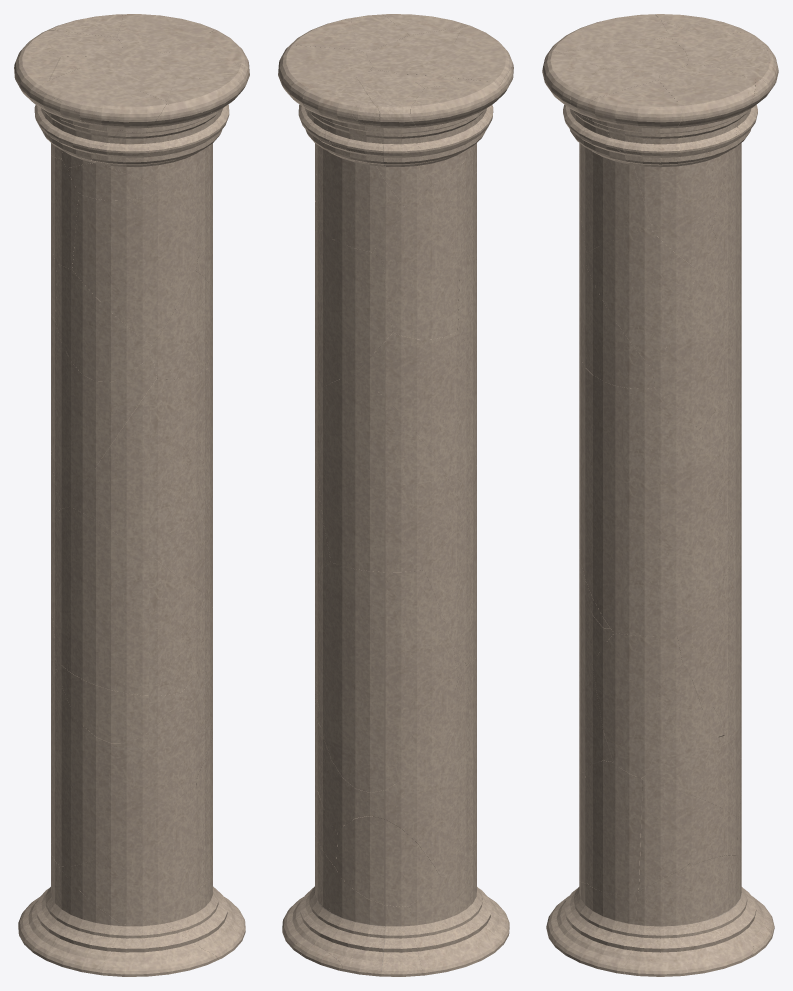
The model's file is columnFractured 1.fbx.
3 views of the same model, side by side, from view 1: azimuth 30°, elevation 25°; view 2: azimuth 150°, elevation 25°; view 3: azimuth 270°, elevation 25° (orthographic).
Parts seen in each view (by area): view 1: Cylinder_cell.025, Cylinder_cell.074, Cylinder_cell.073, Cylinder_cell.009, Cylinder_cell.050, Cylinder_cell.003, Cylinder_cell.049, Cylinder_cell.055, Cylinder_cell.051, Cylinder_cell.043, Cylinder_cell.028, Cylinder_cell.013 (+20 smaller); view 2: Cylinder_cell.036, Cylinder_cell.072, Cylinder_cell.073, Cylinder_cell.003, Cylinder_cell.008, Cylinder_cell.049, Cylinder_cell.016, Cylinder_cell.007, Cylinder_cell.065, Cylinder_cell.046, Cylinder_cell.048, Cylinder_cell.025 (+17 smaller); view 3: Cylinder_cell.074, Cylinder_cell.012, Cylinder_cell.008, Cylinder_cell.073, Cylinder_cell.039, Cylinder_cell.029, Cylinder_cell.050, Cylinder_cell.036, Cylinder_cell.054, Cylinder_cell.019, Cylinder_cell.023, Cylinder_cell.001 (+21 smaller).
Boxes of the visible parts, x1,y1,x2,y2 form: Cylinder_cell.025: (51, 506, 212, 695); Cylinder_cell.074: (70, 360, 212, 607); Cylinder_cell.073: (51, 661, 212, 866); Cylinder_cell.009: (72, 192, 197, 345); Cylinder_cell.050: (59, 779, 198, 924); Cylinder_cell.003: (51, 297, 156, 509); Cylinder_cell.049: (18, 852, 122, 974); Cylinder_cell.055: (55, 263, 152, 381); Cylinder_cell.051: (36, 68, 166, 133); Cylinder_cell.043: (58, 666, 179, 742); Cylinder_cell.028: (152, 271, 212, 379); Cylinder_cell.013: (98, 918, 217, 976); Cylinder_cell.036: (315, 562, 458, 792); Cylinder_cell.072: (315, 374, 464, 572); Cylinder_cell.073: (315, 678, 476, 876); Cylinder_cell.003: (339, 331, 476, 511); Cylinder_cell.008: (315, 225, 392, 396); Cylinder_cell.049: (409, 870, 509, 975); Cylinder_cell.016: (306, 873, 422, 976); Cylinder_cell.007: (373, 159, 475, 271); Cylinder_cell.065: (336, 816, 439, 906); Cylinder_cell.046: (316, 129, 405, 252); Cylinder_cell.048: (382, 260, 459, 339); Cylinder_cell.025: (424, 489, 476, 664); Cylinder_cell.074: (579, 351, 734, 636); Cylinder_cell.012: (624, 855, 753, 976); Cylinder_cell.008: (653, 220, 741, 429); Cylinder_cell.073: (579, 643, 741, 818); Cylinder_cell.039: (592, 633, 682, 777); Cylinder_cell.029: (585, 228, 697, 369); Cylinder_cell.050: (579, 772, 737, 891); Cylinder_cell.036: (677, 541, 741, 758); Cylinder_cell.054: (585, 760, 642, 894); Cylinder_cell.019: (622, 128, 716, 224); Cylinder_cell.023: (578, 122, 652, 252); Cylinder_cell.001: (658, 64, 755, 155).
Size of the model in its own units: 521 by 2112 by 521.
